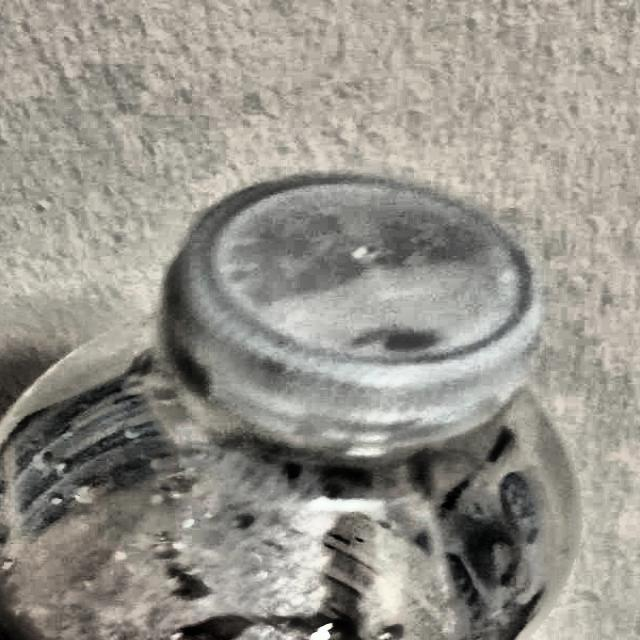plastic: (0, 171, 583, 640)
